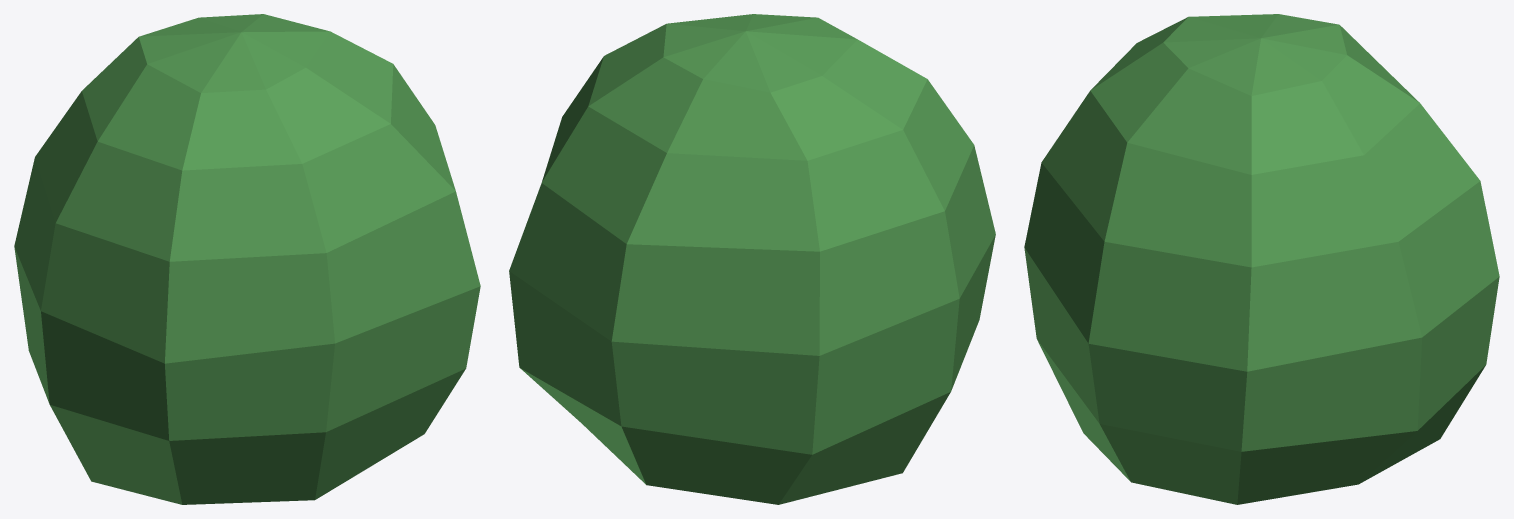
The model's file is sphericalshrub.fbx.
3 renders of one model, left to right at view 1: azimuth 30°, elevation 25°; view 2: azimuth 150°, elevation 25°; view 3: azimuth 270°, elevation 25°, orthographic.
Parts seen in each view (by area): view 1: pSphere1; view 2: pSphere1; view 3: pSphere1.
Part boxes in pixels (x1,y1,x2,y2): pSphere1: (14,14,480,504); pSphere1: (509,14,995,504); pSphere1: (1024,14,1499,504).
Bounding box in the file's own units: 4.22 × 4.17 × 4.13.
